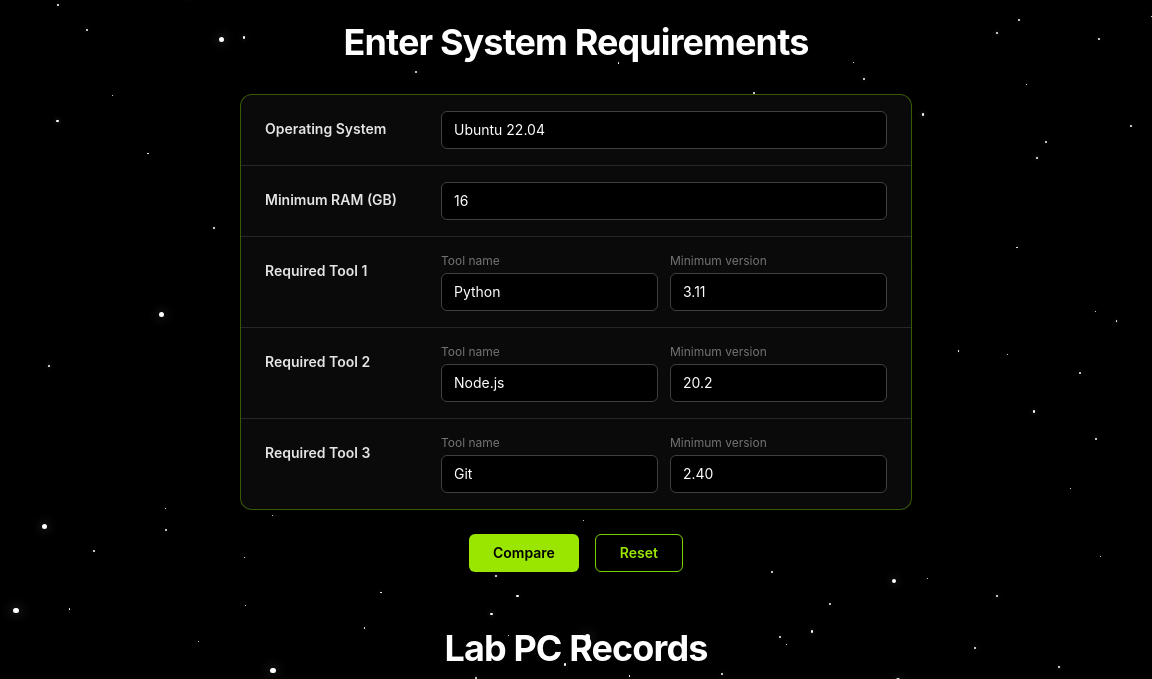
Test: App (Section 3: Comparison & Results) › clicking Compare with invalid input clears previous results and shows a validation message
Click the button "Compare": (524, 553) top-left (469, 534), bottom-right (579, 572)
(page scrolled)
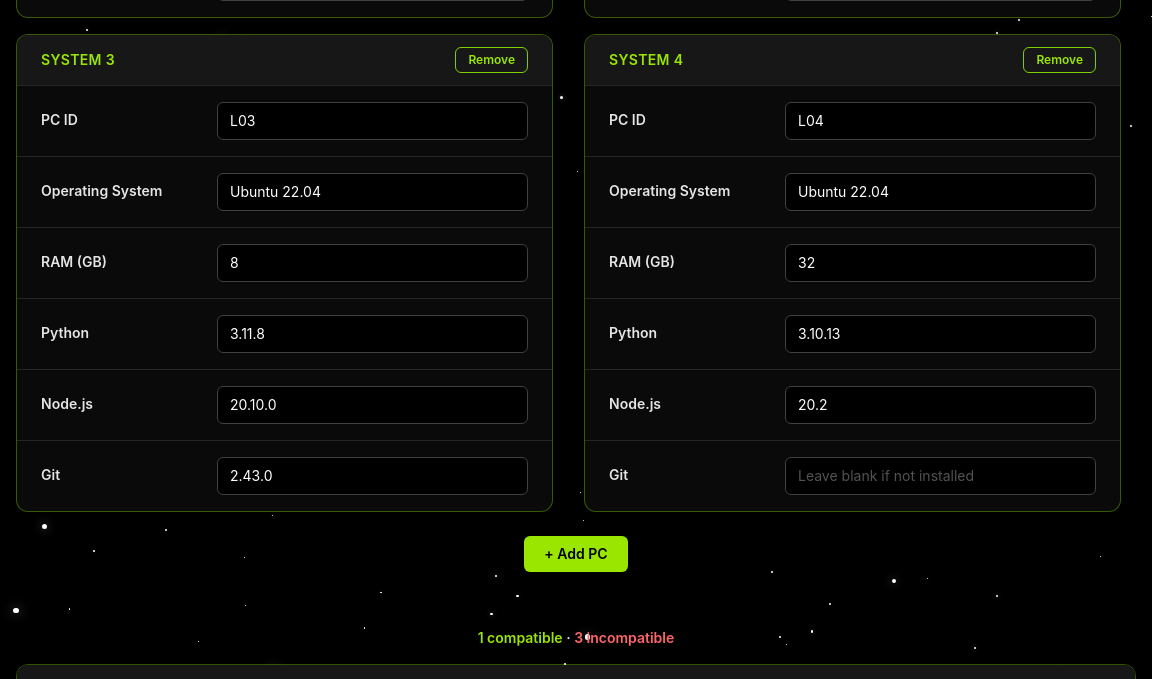
Expected: the text "1 compatible" is shown, top-left (478, 629), bottom-right (563, 646)
Replace the text in the field named "System 4 Python version" with "3..11": (940, 334) top-left (785, 315), bottom-right (1096, 353)
(page scrolled)
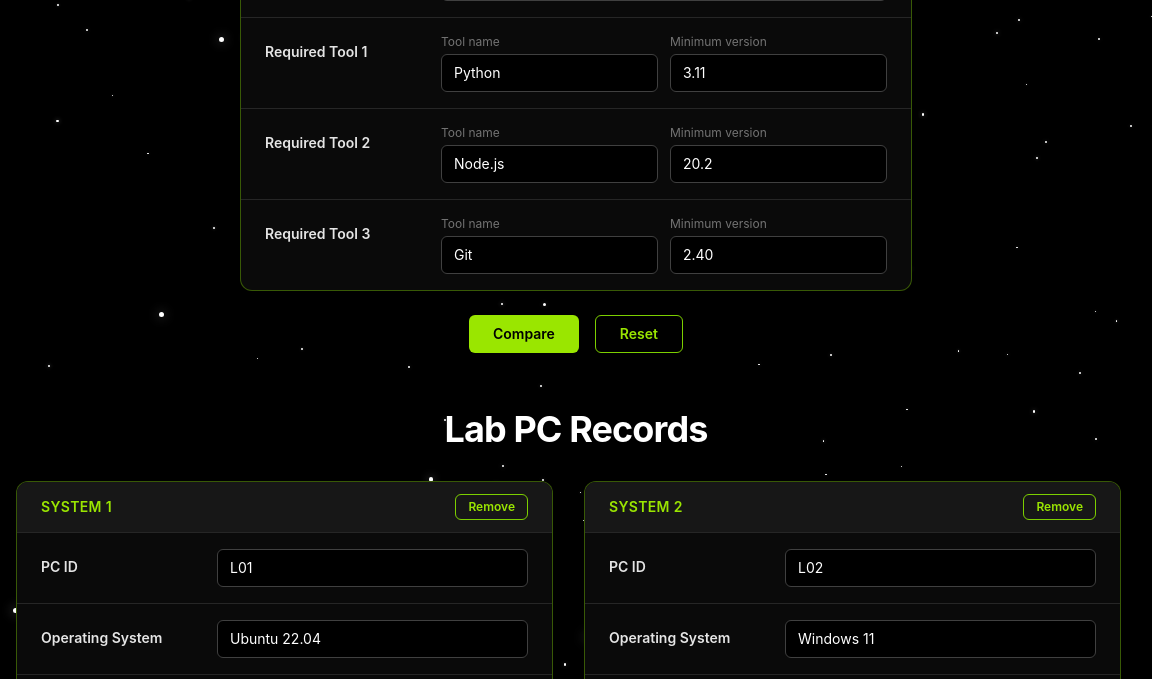
Click the button "Compare": (524, 334) top-left (469, 315), bottom-right (579, 353)
(page scrolled)
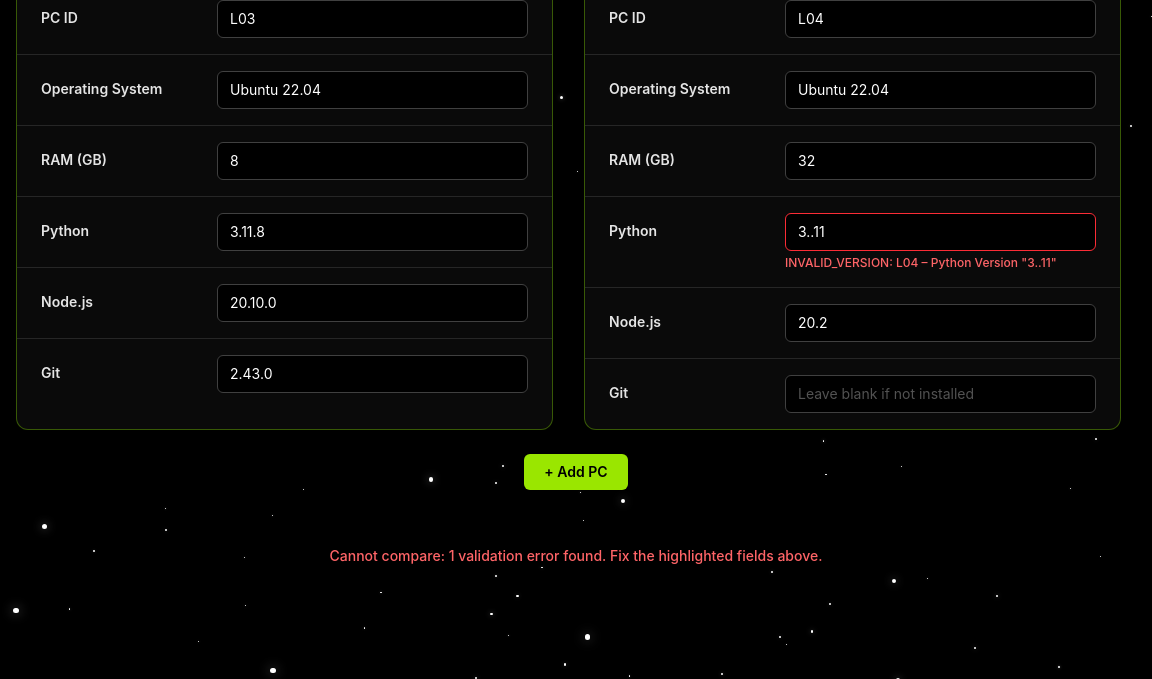
Expected: the message shows "Cannot compare: 1 validation error found", top-left (330, 547), bottom-right (822, 564)
